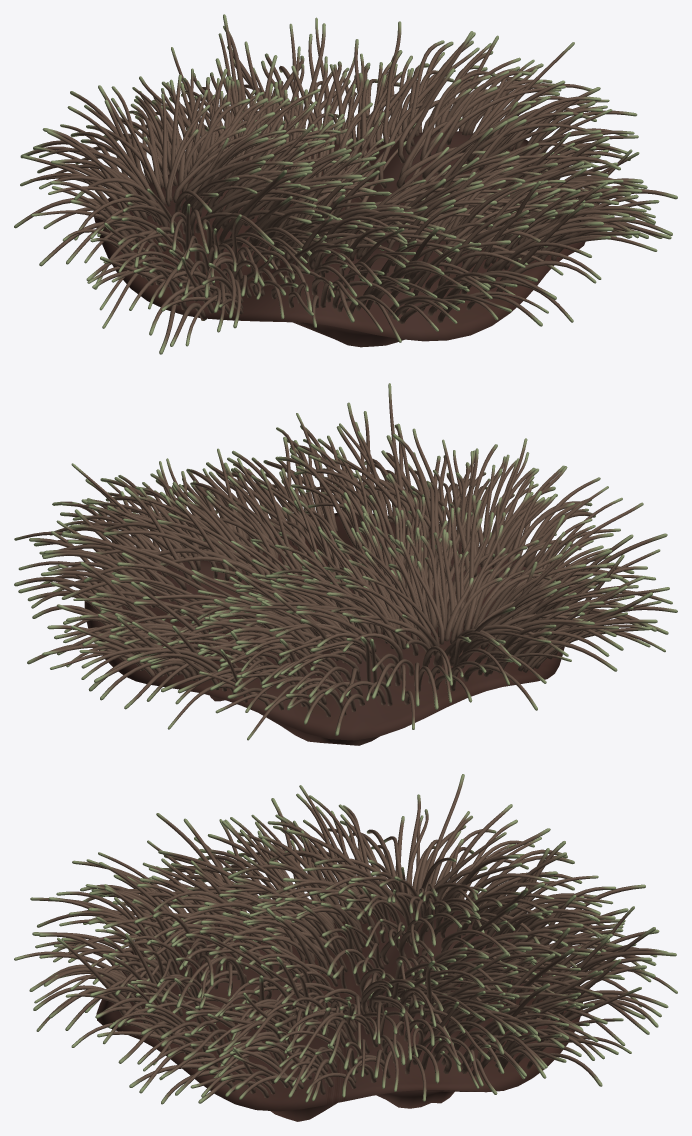
File: anemone_v5_lod2.glb
3 renders of one model, top to bottom at view 1: azimuth 30°, elevation 25°; view 2: azimuth 150°, elevation 25°; view 3: azimuth 270°, elevation 25°, orthographic.
Parts seen in each view (by area): view 1: anemone_v5_LOD2; view 2: anemone_v5_LOD2; view 3: anemone_v5_LOD2.
Boxes of the visible parts, bbox=[...] form: anemone_v5_LOD2: bbox=[14, 14, 677, 354]; anemone_v5_LOD2: bbox=[14, 383, 677, 745]; anemone_v5_LOD2: bbox=[14, 774, 677, 1121].
Size of the model in its own units: 0.3904 by 0.1251 by 0.3883.
2 materials, 2 textured.
